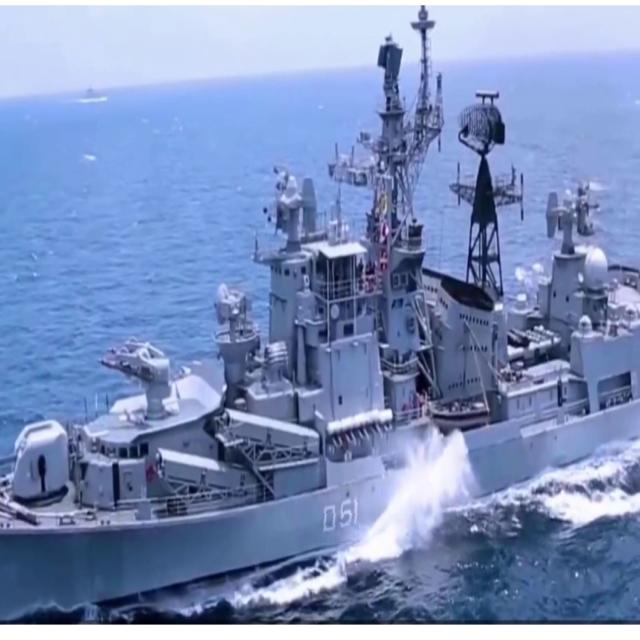OCR: (307, 485, 359, 543)
